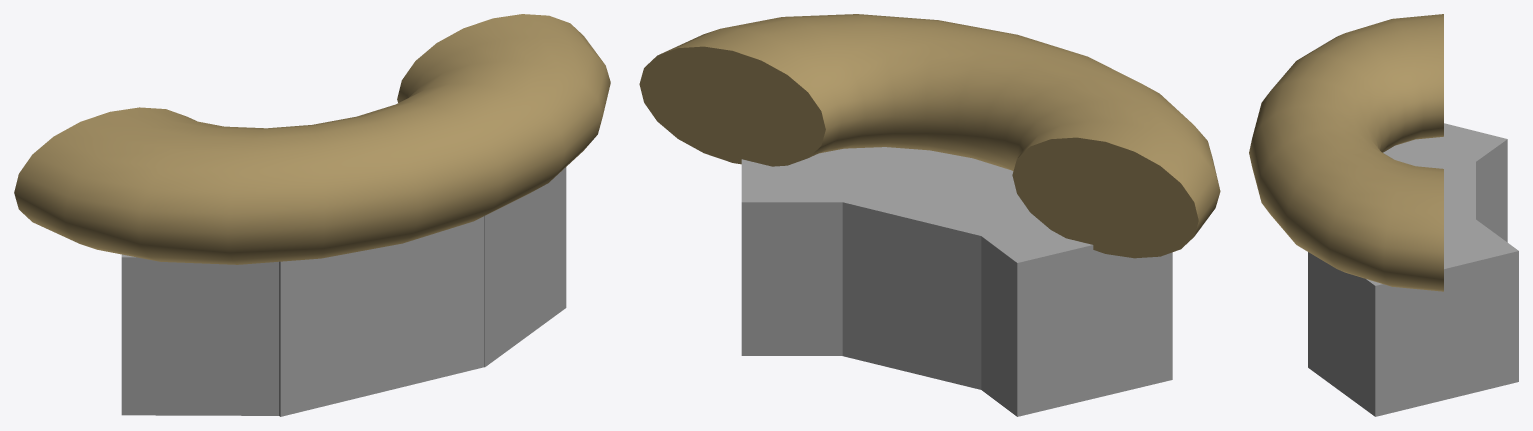
File: Reception Table.fbx
The picture shows the model from 3 angles, left to right: view 1: azimuth 30°, elevation 25°; view 2: azimuth 150°, elevation 25°; view 3: azimuth 270°, elevation 25°; orthographic projection. The views are drawn at different scales.
Parts seen in each view (by area): view 1: pTorus1, pCube1, pCube2, pCube3; view 2: pTorus1, pCube1, pCube2, pCube3; view 3: pTorus1, pCube3, pCube2, pCube1.
Part boxes in pixels (left/top/right/bottom): pTorus1: left=14, top=14, right=610, bottom=264; pCube1: left=279, top=216, right=484, bottom=416; pCube2: left=121, top=254, right=278, bottom=415; pCube3: left=484, top=167, right=566, bottom=367; pTorus1: left=639, top=14, right=1220, bottom=258; pCube1: left=842, top=148, right=1033, bottom=389; pCube2: left=981, top=186, right=1172, bottom=416; pCube3: left=741, top=147, right=900, bottom=355; pTorus1: left=1249, top=14, right=1443, bottom=291; pCube3: left=1308, top=209, right=1518, bottom=416; pCube2: left=1383, top=123, right=1507, bottom=242; pCube1: left=1385, top=154, right=1475, bottom=236.
Size of the model in its own units: 5.97 by 2.65 by 2.93.
